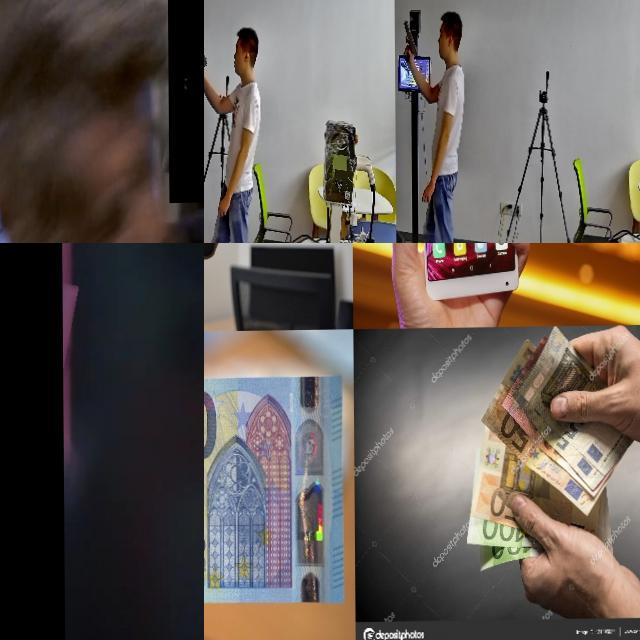gun-knife-thesis - v11 Yolov5 augmented: (0, 243, 204, 640), (399, 17, 416, 61), (204, 22, 213, 76), (555, 0, 574, 23), (304, 0, 328, 18)
